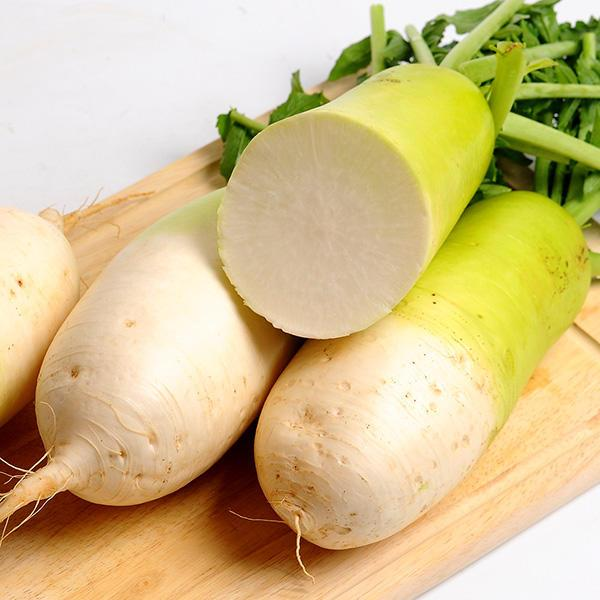radish: (238, 164, 557, 519), (30, 171, 283, 484)
